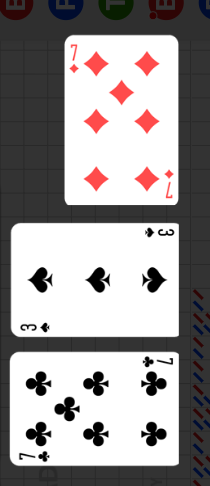7C: (18, 449, 52, 463)
7D: (163, 167, 176, 200), (68, 43, 80, 75)
